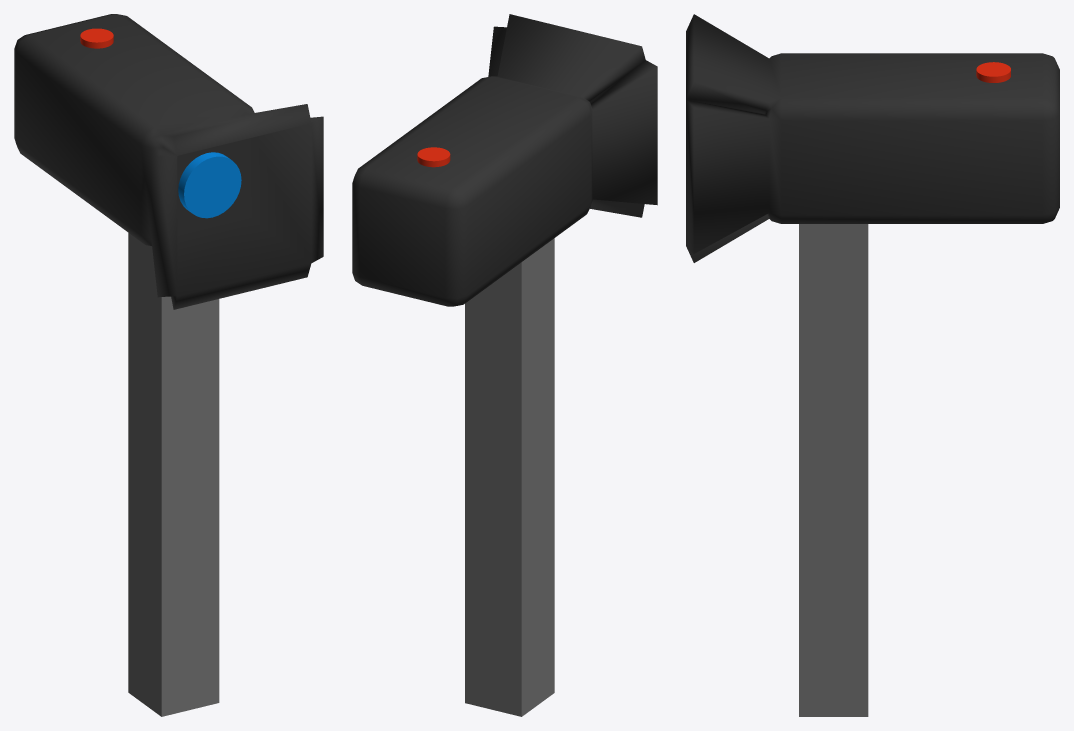
The model's file is MiniCamera.fbx.
3 views of the same model, side by side, from view 1: azimuth 30°, elevation 25°; view 2: azimuth 150°, elevation 25°; view 3: azimuth 270°, elevation 25° (orthographic). The views are drawn at different scales.
Parts seen in each view (by area): view 1: Cube.002, Cube.001, Cylinder, Cylinder.004; view 2: Cube.002, Cube.001, Cylinder.004; view 3: Cube.002, Cube.001, Cylinder.004.
Boxes of the visible parts, box(x1,y1,x2,y2) form: Cube.002: box(14, 14, 323, 309); Cube.001: box(128, 233, 219, 716); Cylinder: box(178, 152, 241, 218); Cylinder.004: box(80, 28, 113, 48); Cube.002: box(352, 14, 657, 306); Cube.001: box(465, 238, 554, 716); Cylinder.004: box(417, 147, 450, 167); Cube.002: box(686, 14, 1059, 262); Cube.001: box(799, 224, 868, 716); Cylinder.004: box(976, 62, 1010, 82).
Bounding box in the file's own units: 144 × 520 × 269.
